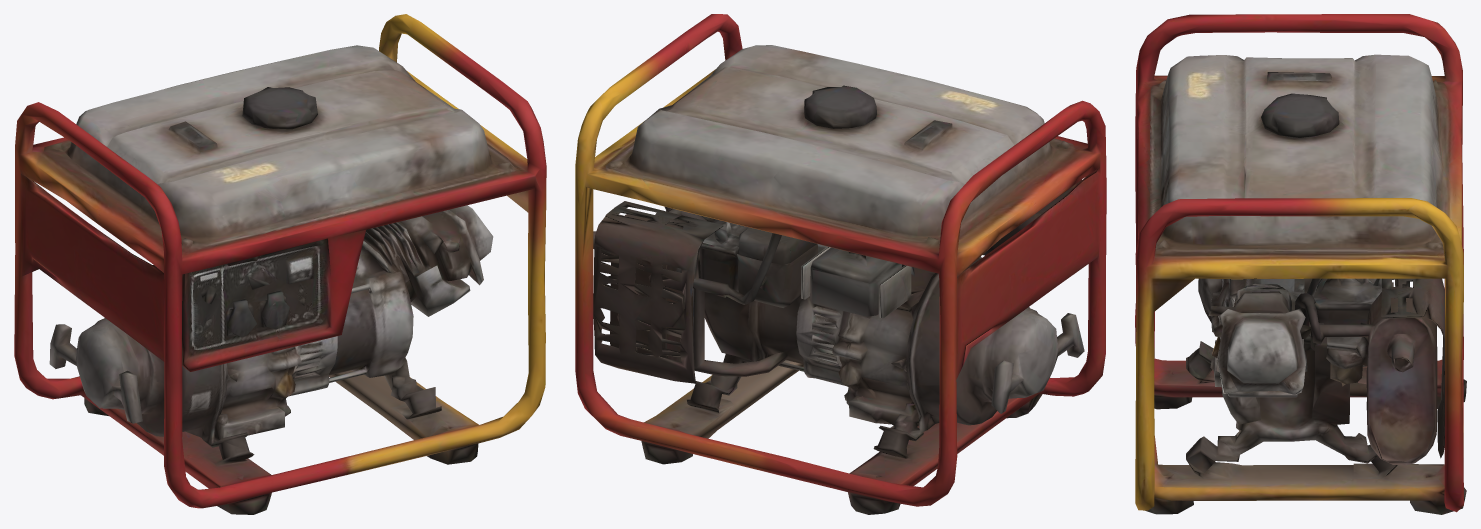
File: generator.glb
3 renders of one model, left to right at view 1: azimuth 30°, elevation 25°; view 2: azimuth 150°, elevation 25°; view 3: azimuth 270°, elevation 25°, orthographic. The views are drawn at different scales.
Parts seen in each view (by area): view 1: tripo_node_7503f560-97b1-47ad-b77f-2a9cc8d9fb2e; view 2: tripo_node_7503f560-97b1-47ad-b77f-2a9cc8d9fb2e; view 3: tripo_node_7503f560-97b1-47ad-b77f-2a9cc8d9fb2e.
Part boxes in pixels (left/top/right/bottom): tripo_node_7503f560-97b1-47ad-b77f-2a9cc8d9fb2e: left=14, top=14, right=546, bottom=514; tripo_node_7503f560-97b1-47ad-b77f-2a9cc8d9fb2e: left=575, top=14, right=1106, bottom=514; tripo_node_7503f560-97b1-47ad-b77f-2a9cc8d9fb2e: left=1135, top=14, right=1466, bottom=514.
Bounding box in the file's own units: 1 × 0.8 × 0.7006.
Materials: 1 (1 with a texture image).
